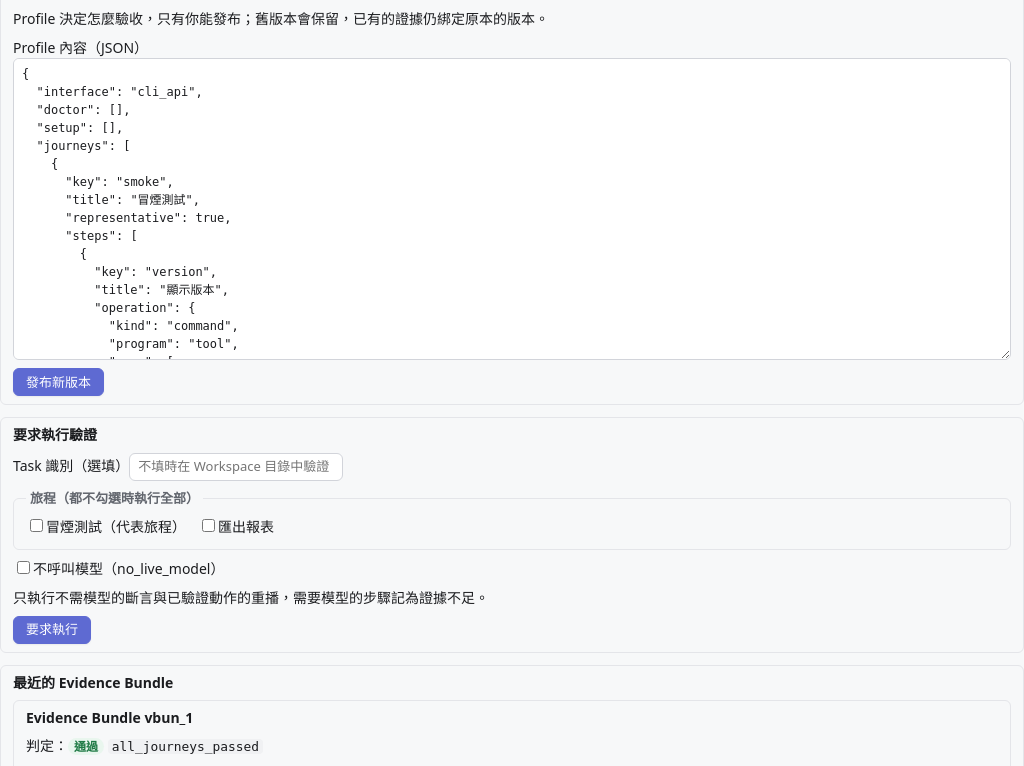
Test case: 驗證 › 發布：預填目前的內容，送出解析後的 JSON，顯示新版本並重新載入
(page scrolled)
Click the button "發布新版本" at (58, 382), box [13, 368, 104, 396]
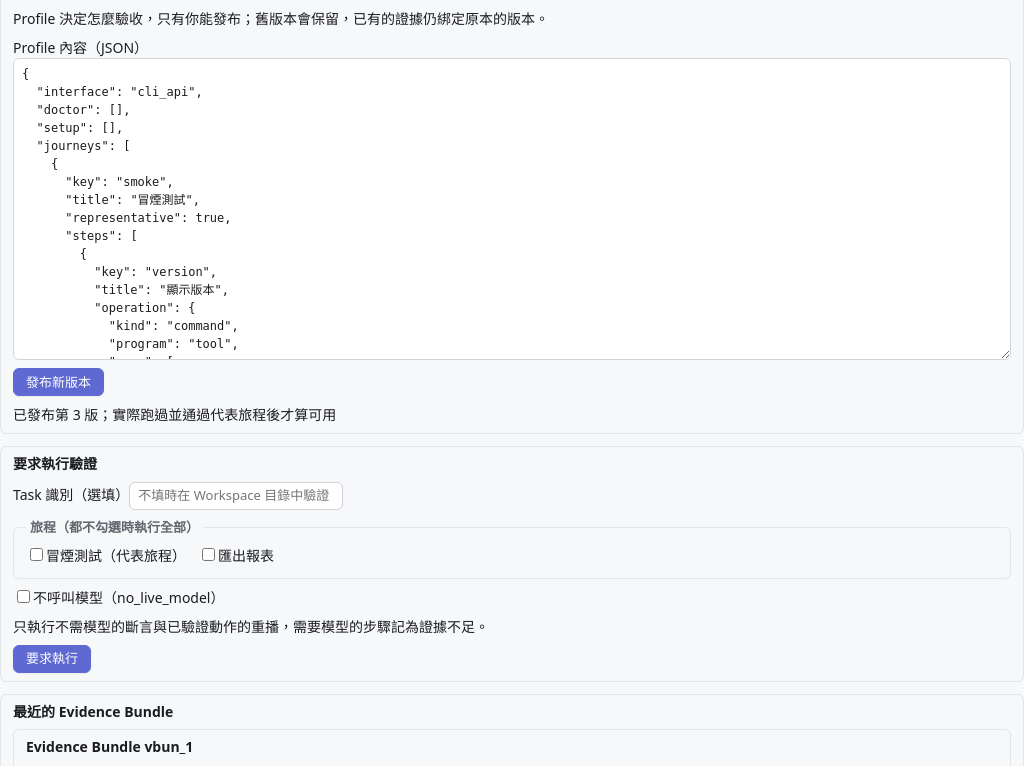
Expected: the message reads "已發布第 3 版；實際跑過並通過代表旅程後才算可用", [13, 405, 336, 424]
